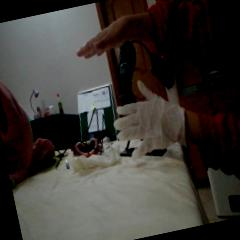gloved: (104, 70, 192, 165)
not-gloved: (71, 10, 151, 62)
